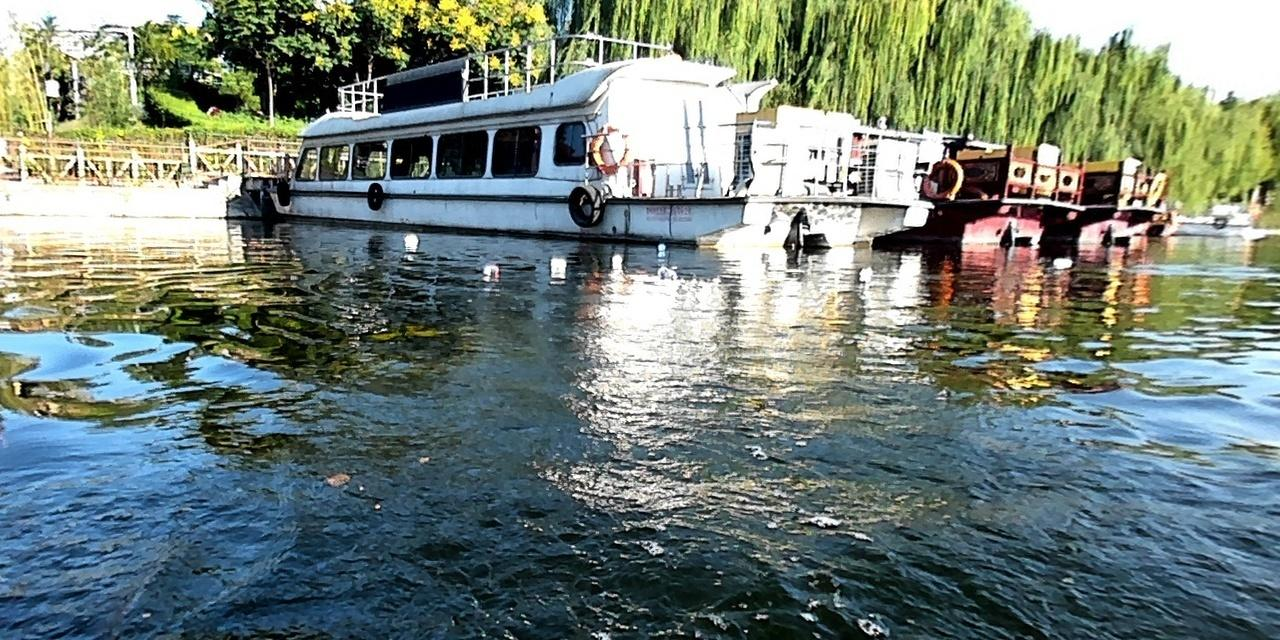bottle: (653, 263, 680, 278), (548, 254, 570, 269), (480, 260, 499, 276), (399, 229, 421, 242)
